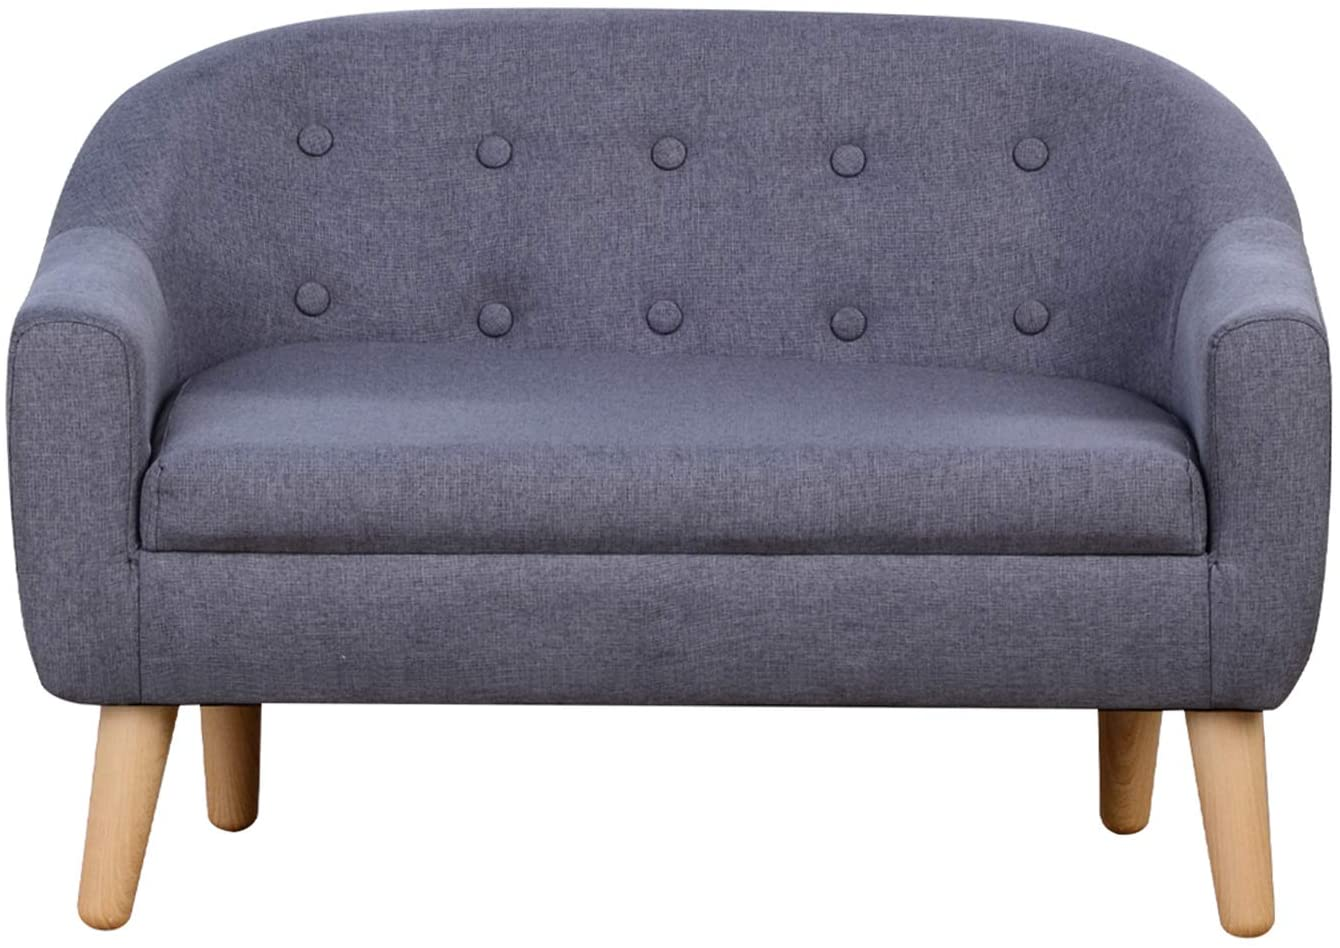sova: (7, 12, 1333, 926)
